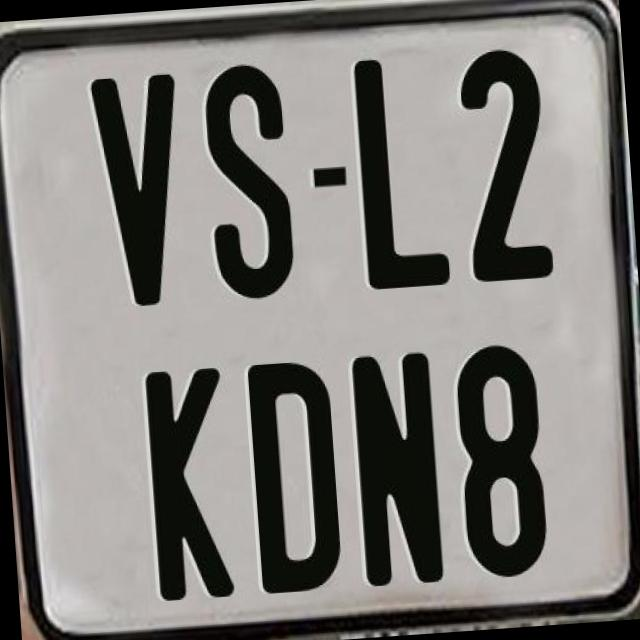2: (458, 46, 554, 290)
8: (452, 342, 554, 580)
D: (247, 360, 351, 598)
K: (143, 362, 242, 600)
L: (348, 55, 452, 292)
N: (350, 346, 452, 590)
S: (200, 56, 296, 306)
V: (89, 69, 191, 309)
